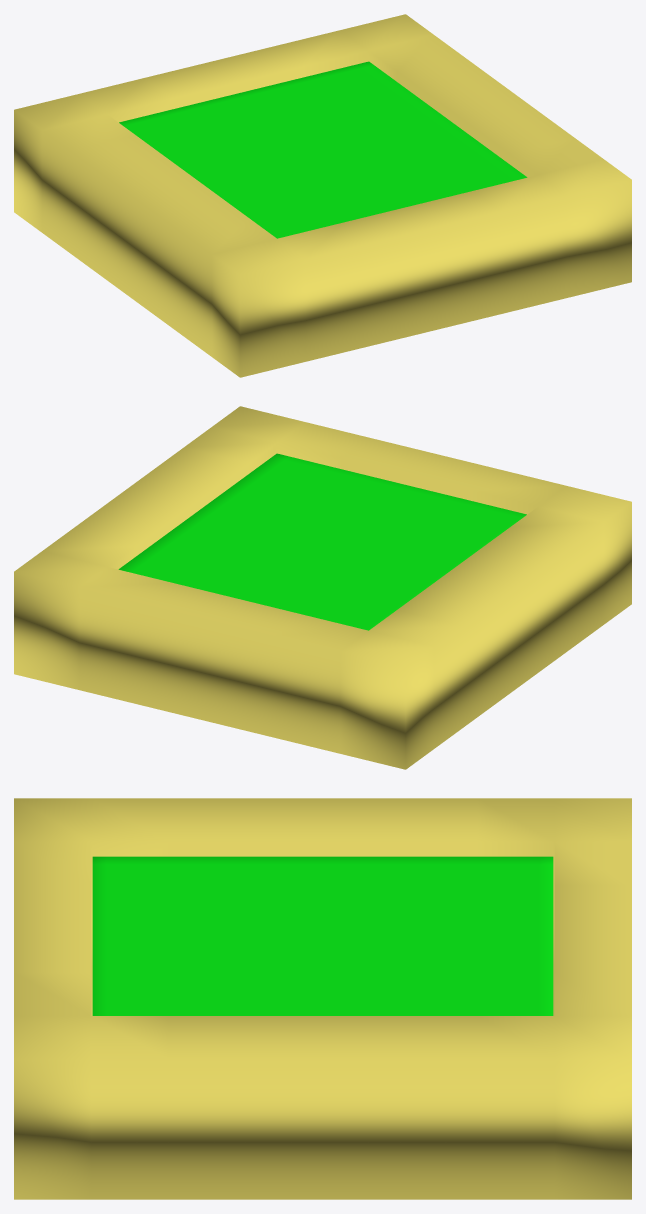
File: tina.fbx
3 renders of one model, top to bottom at view 1: azimuth 30°, elevation 25°; view 2: azimuth 150°, elevation 25°; view 3: azimuth 270°, elevation 25°, orthographic. The views are drawn at different scales.
Visible parts, largest first — view 1: Cube.001; view 2: Cube.001; view 3: Cube.001.
Part boxes in pixels (x1,y1,x2,y2): Cube.001: [14, 14, 631, 377]; Cube.001: [14, 406, 631, 769]; Cube.001: [14, 798, 631, 1199].
Size of the model in its own units: 200 by 50 by 200.
